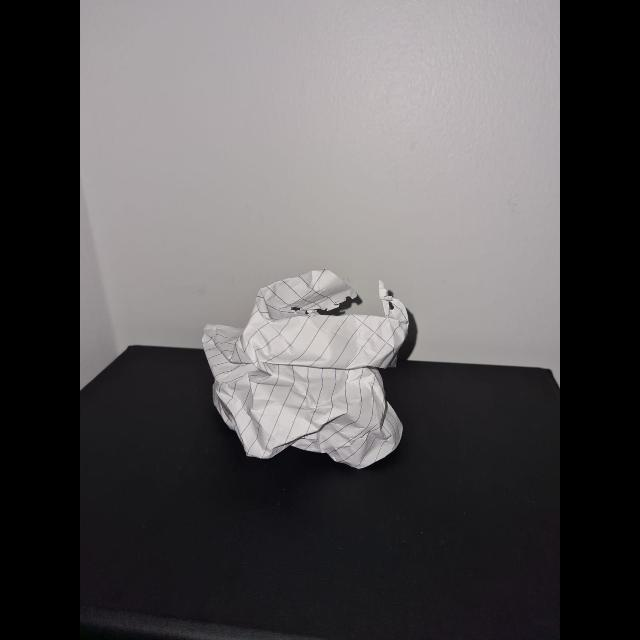scrap_paper: (191, 274, 417, 478)
